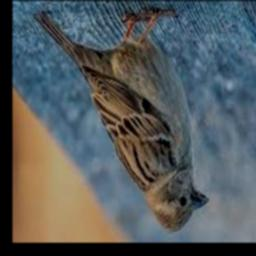Sparrow: (34, 9, 209, 233)
